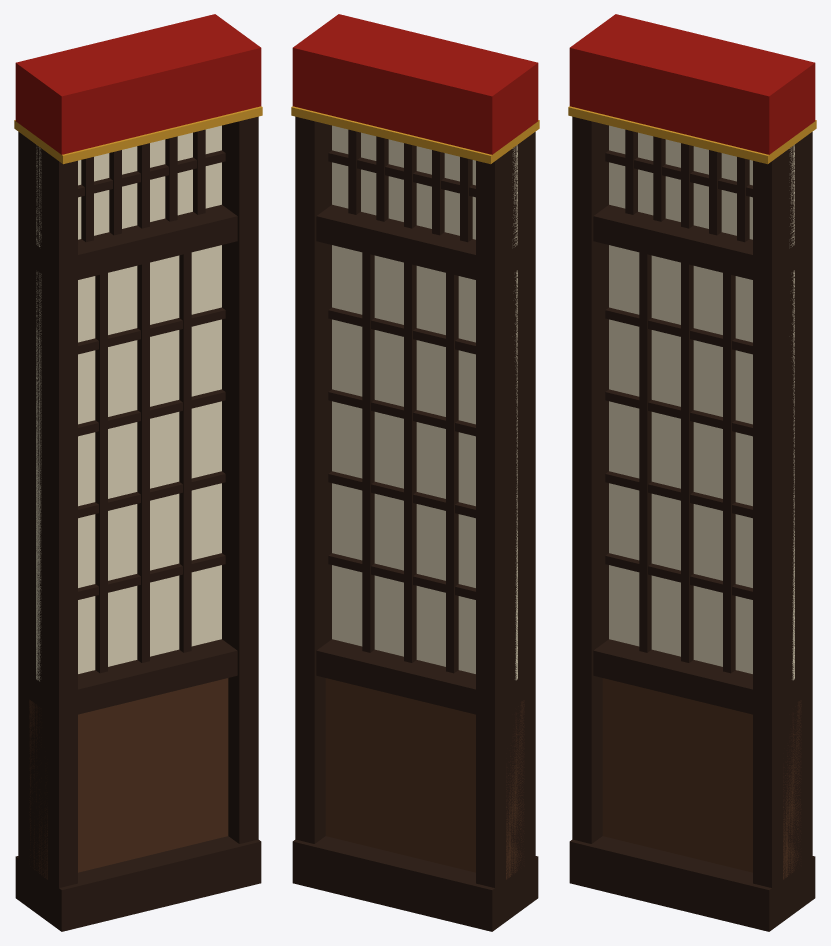
Rendered from SM_Bld_Shoji_Wall_Quarter_01.fbx.
The picture shows the model from 3 angles, left to right: view 1: azimuth 30°, elevation 25°; view 2: azimuth 150°, elevation 25°; view 3: azimuth 330°, elevation 25°; orthographic projection.
Parts seen in each view (by area): view 1: SM_Bld_Shoji_Wall_Quarter_01; view 2: SM_Bld_Shoji_Wall_Quarter_01; view 3: SM_Bld_Shoji_Wall_Quarter_01.
Boxes of the visible parts, x1,y1,x2,y2 form: SM_Bld_Shoji_Wall_Quarter_01: (14,14,262,931); SM_Bld_Shoji_Wall_Quarter_01: (291,14,539,931); SM_Bld_Shoji_Wall_Quarter_01: (568,14,816,931).
Size of the model in its own units: 1.25 by 5 by 0.53.
2 materials, 2 textured.
